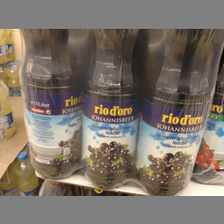juice: (132, 30, 223, 195), (80, 30, 141, 190), (20, 29, 82, 179)
